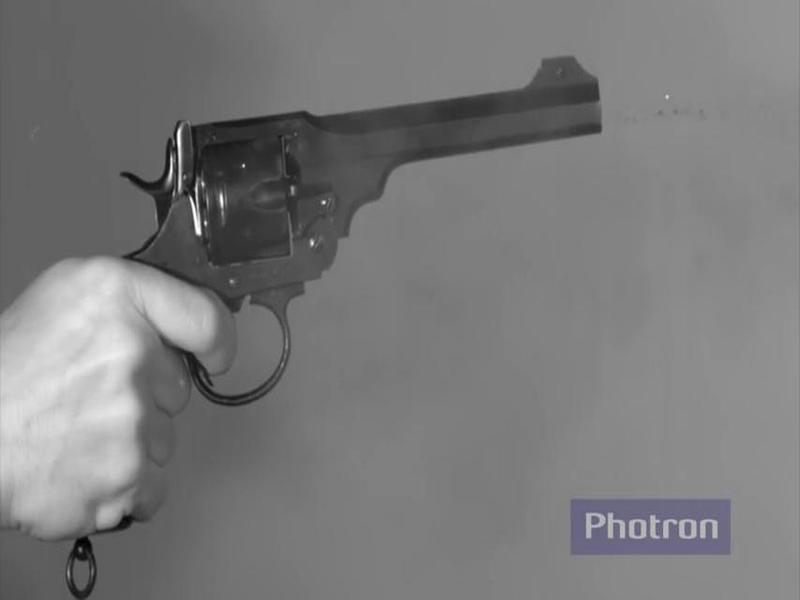Revolver: (86, 64, 625, 424)
